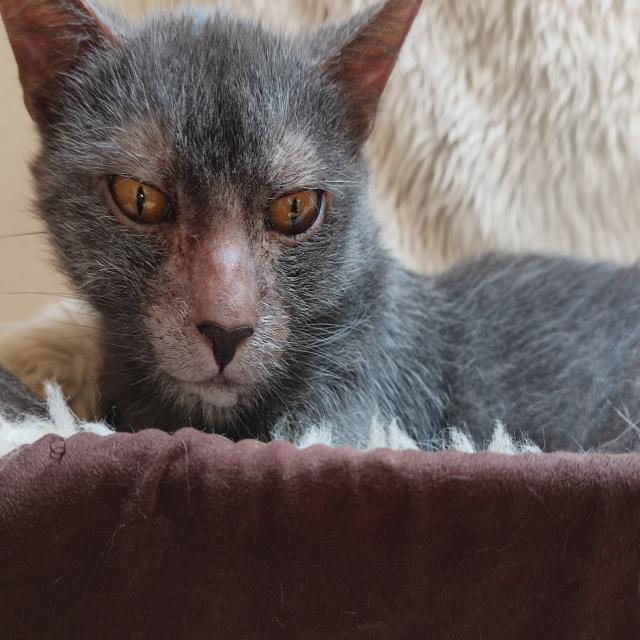Lykoi: (0, 0, 640, 453)
